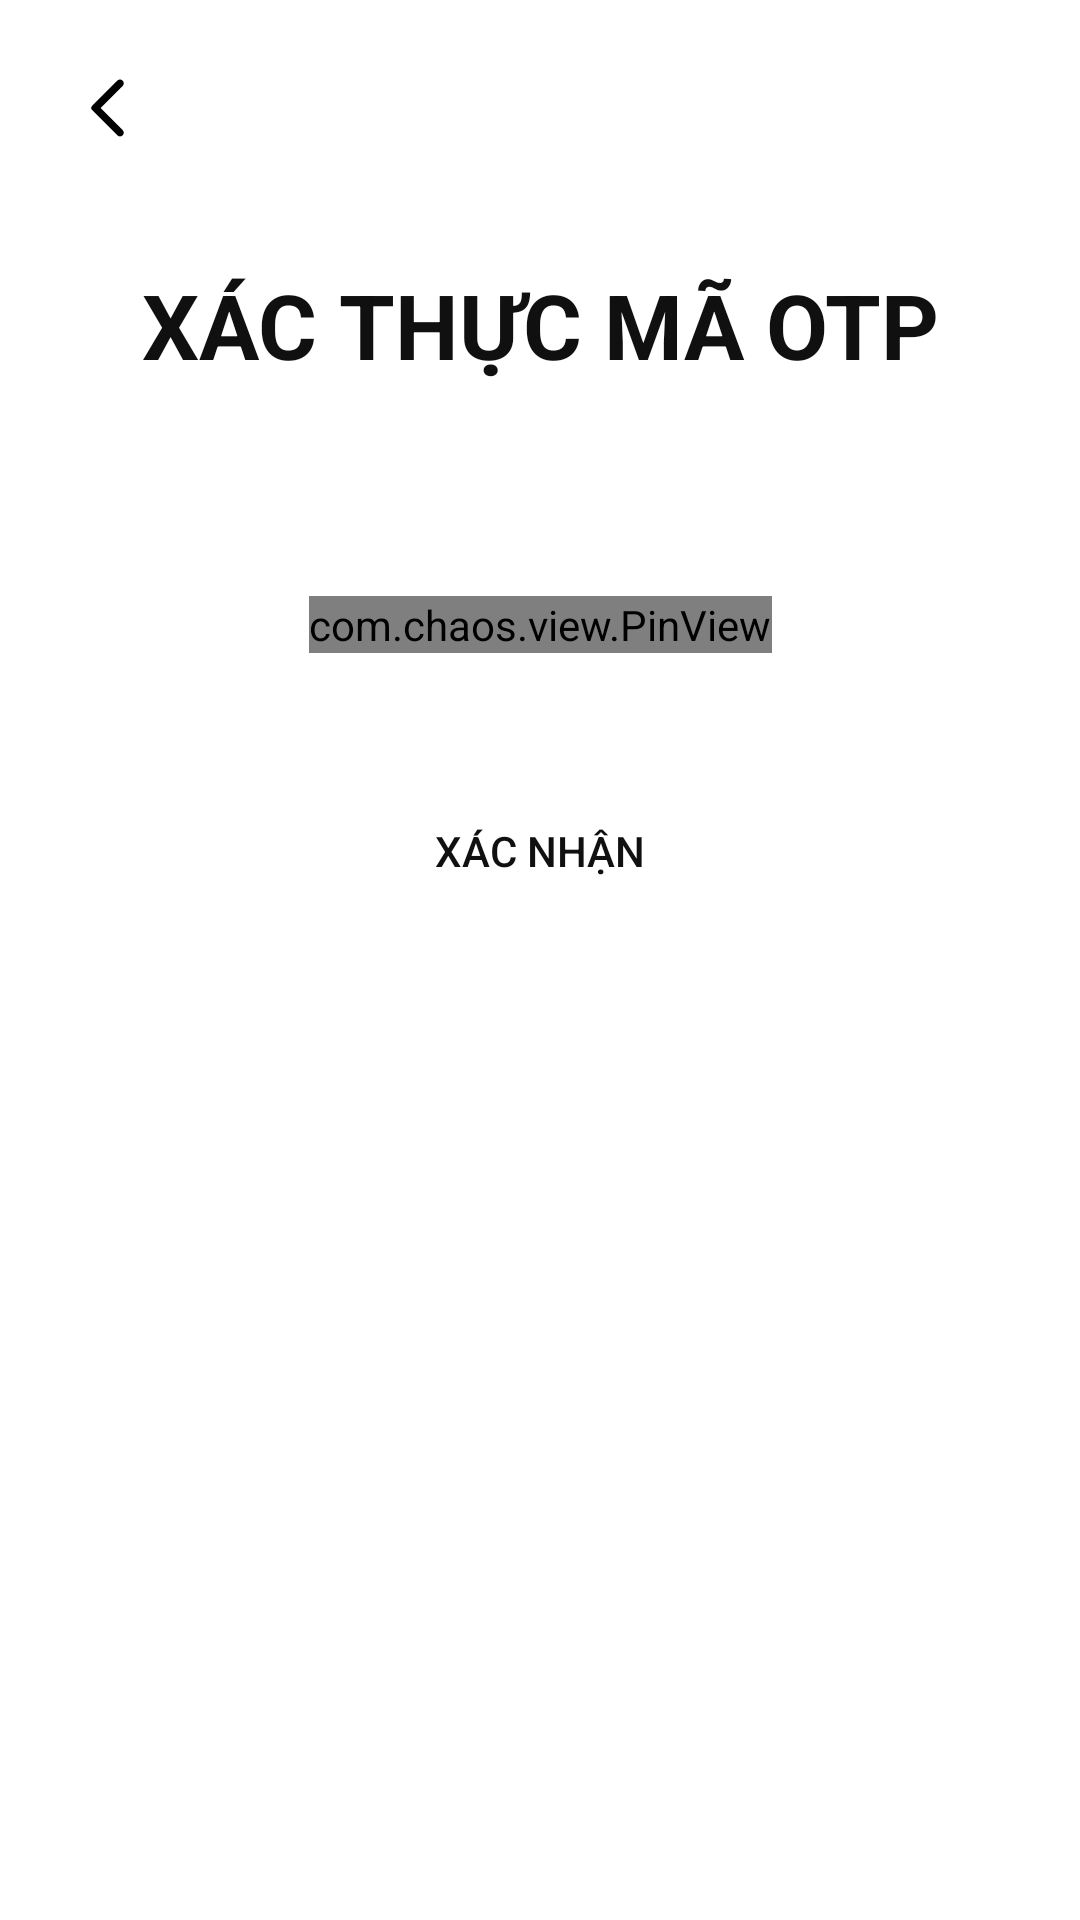

Locate icon controls on the screen. Image size 1080 × 1920, boxes as (x1, y1, x2, y2).
arrow back: (91, 79, 124, 137)
